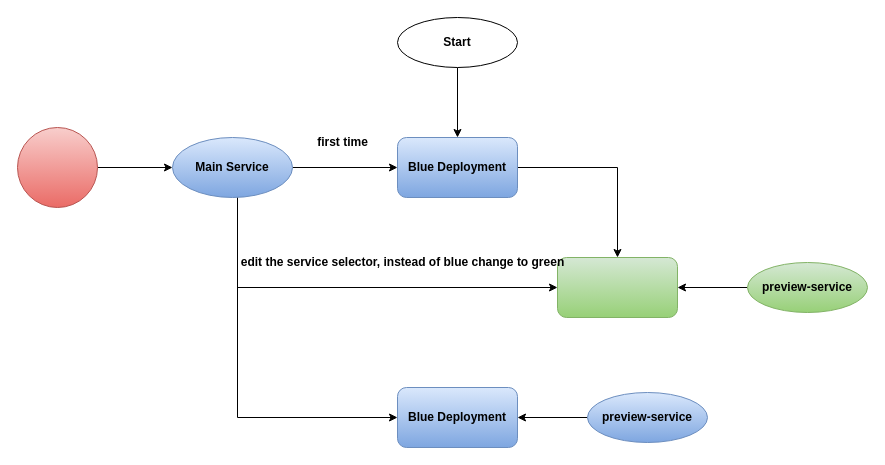
This 885x465 diagram has some shape labels left out. Here are the shapes that lost their labels. From the top down, the centre of each, then its label:
At (x=57, y=167): "Ingress".
At (x=617, y=287): "Green".
